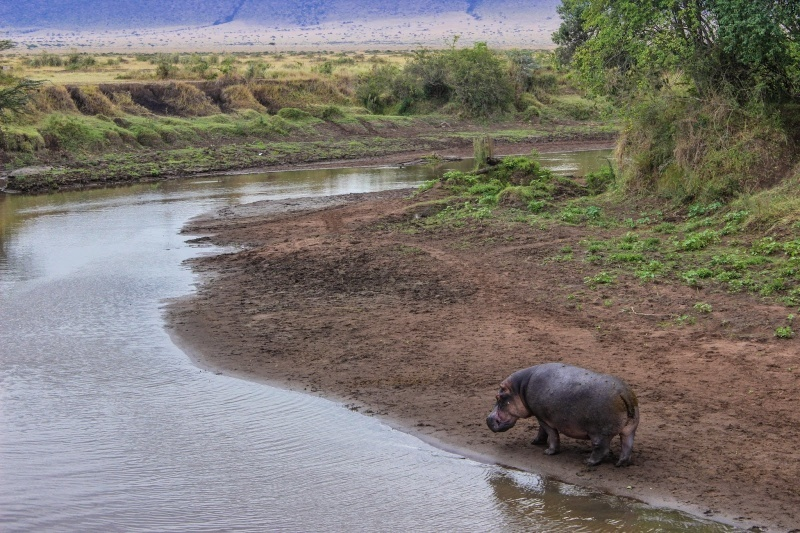hipopotamo: (480, 360, 651, 478)
